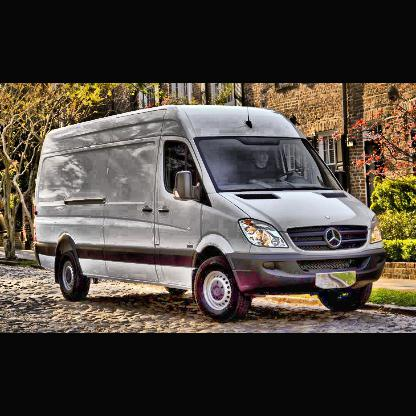Mercedes-Benz Sprinter Van 2012: (36, 88, 389, 326)
